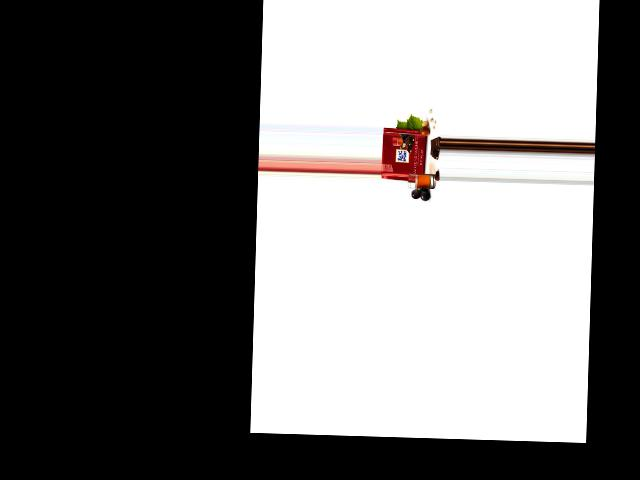chocolate: (382, 126, 427, 180)
